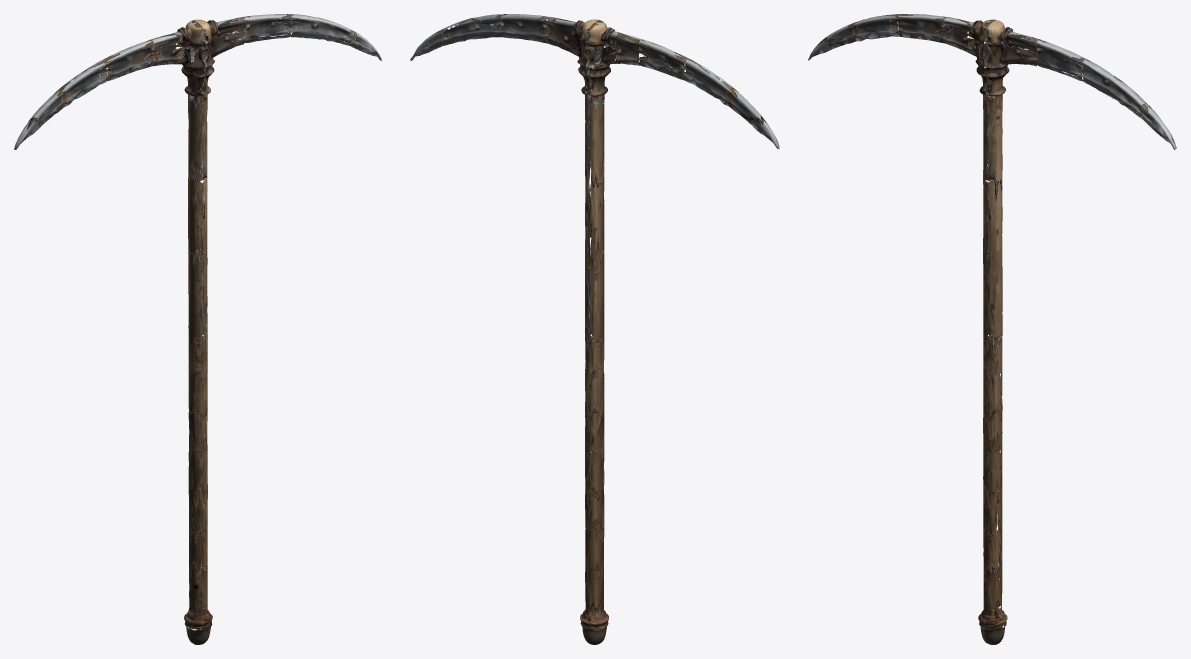
File: w_rust_executioner.glb
The picture shows the model from 3 angles, left to right: view 1: azimuth 30°, elevation 25°; view 2: azimuth 150°, elevation 25°; view 3: azimuth 330°, elevation 25°; orthographic projection.
Visible parts, largest first — view 1: geometry_0; view 2: geometry_0; view 3: geometry_0.
Part boxes in pixels (x1,y1,x2,y2): geometry_0: (14, 14, 381, 644); geometry_0: (410, 14, 779, 644); geometry_0: (808, 14, 1176, 644).
Bounding box in the file's own units: 1.18 × 1.9 × 0.0927.
Materials: 1 (1 with a texture image).
